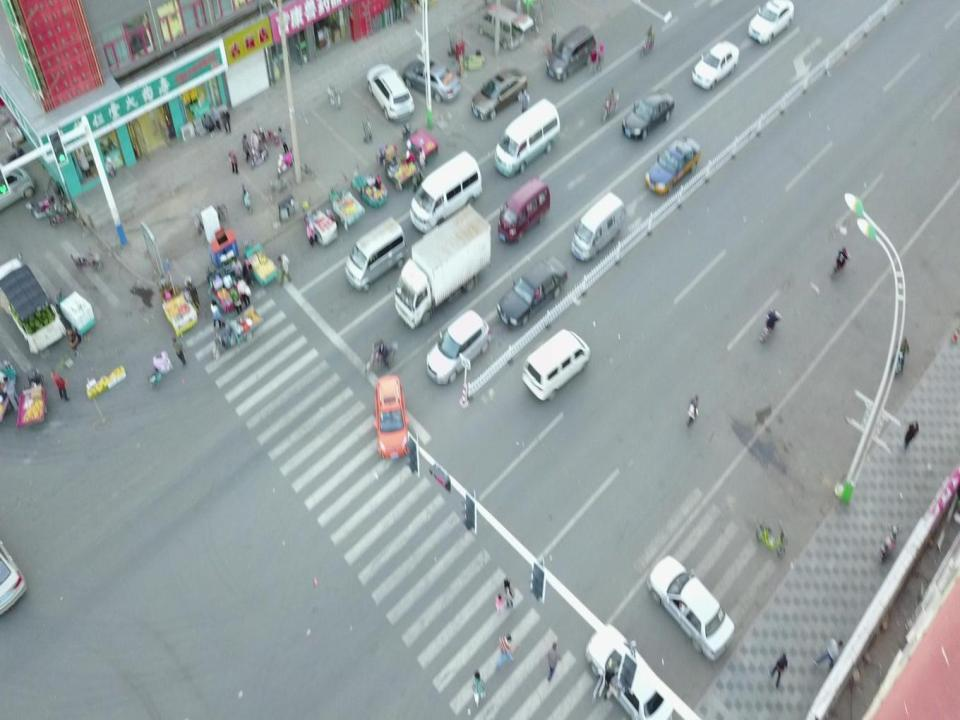car: (645, 554, 736, 661), (585, 623, 675, 720), (495, 254, 568, 330), (426, 309, 492, 385), (644, 134, 701, 194), (374, 373, 410, 460), (471, 66, 527, 120), (366, 62, 416, 122), (621, 88, 674, 141), (402, 58, 462, 102), (691, 38, 741, 90), (747, 0, 795, 44)
truck: (394, 202, 491, 330), (0, 250, 65, 351)
van: (409, 149, 483, 233), (494, 96, 560, 178), (521, 327, 591, 402), (344, 216, 407, 292), (570, 191, 626, 262), (497, 176, 551, 244), (546, 23, 597, 81), (478, 4, 534, 50)
